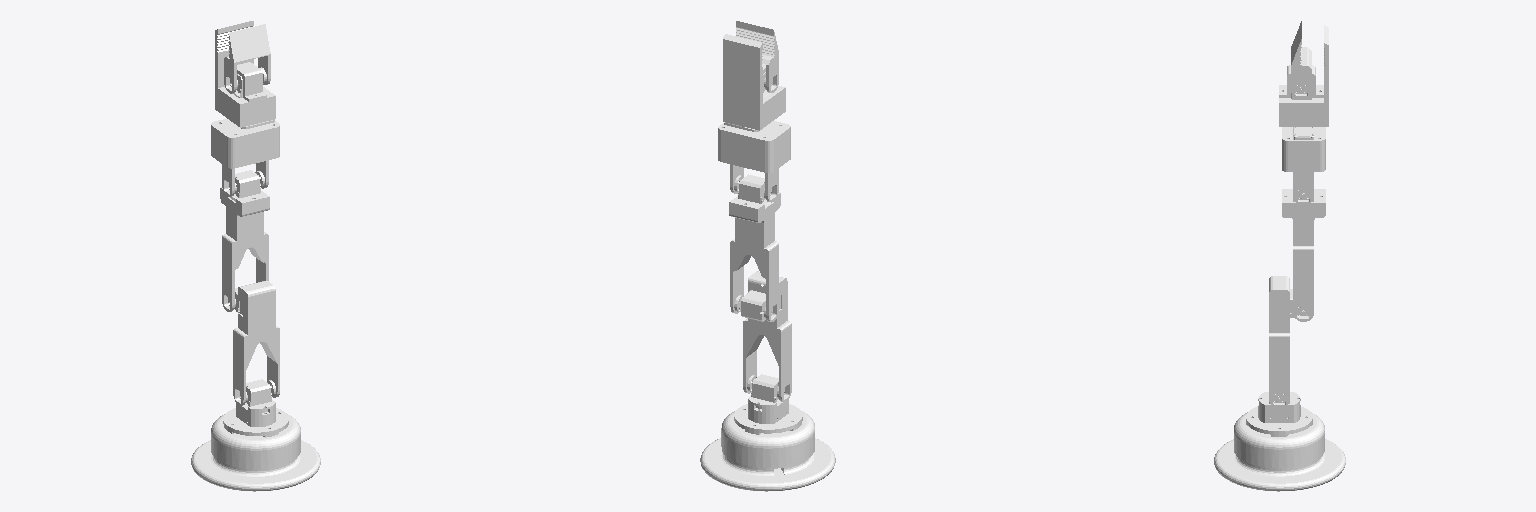
The robot description file, URDF, robot "vector_the_arm_description":
<?xml version="1.0" encoding="utf-8"?>
<!-- This URDF was automatically created by SolidWorks to URDF Exporter! Originally created by Stephen Brawner (brawner@gmail.com) 
     Commit Version: 1.6.0-1-g15f4949  Build Version: 1.6.7594.29634
     For more information, please see http://wiki.ros.org/sw_urdf_exporter -->
<robot
  name="vector_the_arm_description">
  <link
    name="base_link">
    <inertial>
      <origin
        xyz="0.0011876 -0.00024586 -0.0021651"
        rpy="0 0 0" />
      <mass
        value="0.47301" />
      <inertia
        ixx="0.00060142"
        ixy="-7.7811E-06"
        ixz="-4.6303E-06"
        iyy="0.00060151"
        iyz="4.6549E-06"
        izz="0.00099286" />
    </inertial>
    <visual>
      <origin
        xyz="0 0 0"
        rpy="0 0 0" />
      <geometry>
        <mesh
          filename="package://vector_the_arm_description/meshes/base_link.STL" />
      </geometry>
      <material
        name="">
        <color
          rgba="1 1 1 1" />
      </material>
    </visual>
    <collision>
      <origin
        xyz="0 0 0"
        rpy="0 0 0" />
      <geometry>
        <mesh
          filename="package://vector_the_arm_description/meshes/base_link.STL" />
      </geometry>
    </collision>
  </link>
  <link
    name="Link1">
    <inertial>
      <origin
        xyz="-0.00013887 -3.7112E-05 0.037653"
        rpy="0 0 0" />
      <mass
        value="0.16671" />
      <inertia
        ixx="0.00013651"
        ixy="8.7156E-12"
        ixz="6.9648E-08"
        iyy="0.00013384"
        iyz="3.302E-10"
        izz="0.00023132" />
    </inertial>
    <visual>
      <origin
        xyz="0 0 0"
        rpy="0 0 0" />
      <geometry>
        <mesh
          filename="package://vector_the_arm_description/meshes/Link1.STL" />
      </geometry>
      <material
        name="">
        <color
          rgba="1 1 1 1" />
      </material>
    </visual>
    <collision>
      <origin
        xyz="0 0 0"
        rpy="0 0 0" />
      <geometry>
        <mesh
          filename="package://vector_the_arm_description/meshes/Link1.STL" />
      </geometry>
    </collision>
  </link>
  <joint
    name="Joint1"
    type="revolute">
    <origin
      xyz="0 0 0"
      rpy="0 0 3.1416" />
    <parent
      link="base_link" />
    <child
      link="Link1" />
    <axis
      xyz="0 0 1" />
    <limit
      lower="-1.5708"
      upper="1.5708"
      effort="3.0"
      velocity="2.0" />
  </joint>
  <link
    name="Link2">
    <inertial>
      <origin
        xyz="-0.09422 0.003695 -0.022118"
        rpy="0 0 0" />
      <mass
        value="0.12354" />
      <inertia
        ixx="3.6579E-05"
        ixy="-1.8894E-06"
        ixz="3.2641E-07"
        iyy="0.00013792"
        iyz="-6.9245E-08"
        izz="0.00012281" />
    </inertial>
    <visual>
      <origin
        xyz="-0.1347 -0.0128 0"
        rpy="0 0 0" />
      <geometry>
        <mesh
          filename="package://vector_the_arm_description/meshes/Link2.STL" />
      </geometry>
      <material
        name="">
        <color
          rgba="1 1 1 1" />
      </material>
    </visual>
    <collision>
      <origin
        xyz="-0.1347 -0.0128 0"
        rpy="0 0 0" />
      <geometry>
        <mesh
          filename="package://vector_the_arm_description/meshes/Link2.STL" />
      </geometry>
    </collision>
  </link>
  <joint
    name="Joint2"
    type="revolute">
    <origin
      xyz="-0.023219 -0.000282 0.07716"
      rpy="3.1416 1.5708 0" />
    <parent
      link="Link1" />
    <child
      link="Link2" />
    <axis
      xyz="0 0 1" />
    <limit
      lower="-1.82"
      upper="1.82"
      effort="3.0"
      velocity="2.0" />
  </joint>
  <link
    name="Link3">
    <inertial>
      <origin
        xyz="-0.104627 -0.000063 -0.022151"
        rpy="0 0 0" />
      <mass
        value="0.14146" />
      <inertia
        ixx="4.2981E-05"
        ixy="2.0742E-08"
        ixz="3.9424E-07"
        iyy="0.00016334"
        iyz="6.9679E-10"
        izz="0.00015045" />
    </inertial>
    <visual>
      <origin
        xyz="-0.1347 -0.0128 0"
        rpy="0 0 0" />
      <geometry>
        <mesh
          filename="package://vector_the_arm_description/meshes/Link3.STL" />
      </geometry>
      <material
        name="">
        <color
          rgba="1 1 1 1" />
      </material>
    </visual>
    <collision>
      <origin
        xyz="-0.1347 -0.0128 0"
        rpy="0 0 0" />
      <geometry>
        <mesh
          filename="package://vector_the_arm_description/meshes/Link3.STL" />
      </geometry>
    </collision>
  </link>
  <joint
    name="Joint3"
    type="revolute">
    <origin
      xyz="-0.11579 0.029138 0.00049896"
      rpy="0 0 0" />
    <parent
      link="Link2" />
    <child
      link="Link3" />
    <axis
      xyz="0 0 1" />
    <limit
      lower="-1.60"
      upper="1.60"
      effort="3.0"
      velocity="2.0" />
  </joint>
  <link
    name="Link4">
    <inertial>
      <origin
        xyz="-0.057402 -0.000135 -0.022293"
        rpy="0 0 0" />
      <mass
        value="0.18212" />
      <inertia
        ixx="0.00011571"
        ixy="6.8725E-09"
        ixz="4.5323E-06"
        iyy="0.00011637"
        iyz="3.3483E-10"
        izz="8.0361E-05" />
    </inertial>
    <visual>
      <origin
        xyz="-0.1347 -0.0128 0"
        rpy="0 0 0" />
      <geometry>
        <mesh
          filename="package://vector_the_arm_description/meshes/Link4.STL" />
      </geometry>
      <material
        name="">
        <color
          rgba="1 1 1 1" />
      </material>
    </visual>
    <collision>
      <origin
        xyz="-0.1347 -0.0128 0"
        rpy="0 0 0" />
      <geometry>
        <mesh
          filename="package://vector_the_arm_description/meshes/Link4.STL" />
      </geometry>
    </collision>
  </link>
  <joint
    name="Joint4"
    type="revolute">
    <origin
      xyz="-0.15595 -0.000044 -0.043973"
      rpy="3.1416 0 0" />
    <parent
      link="Link3" />
    <child
      link="Link4" />
    <axis
      xyz="0 0 -1" />
    <limit
      lower="-1.55"
      upper="1.55"
      effort="3.0"
      velocity="2.0" />
  </joint>
  <link
    name="Link5">
    <inertial>
      <origin
        xyz="-0.0037812 -7.5442E-05 0.0098443"
        rpy="0 0 0" />
      <mass
        value="0.15471" />
      <inertia
        ixx="0.00011426"
        ixy="2.9963E-08"
        ixz="-2.8589E-05"
        iyy="0.0001344"
        iyz="1.6437E-08"
        izz="7.8003E-05" />
    </inertial>
    <visual>
      <origin
        xyz="0 0 0"
        rpy="0 0 0" />
      <geometry>
        <mesh
          filename="package://vector_the_arm_description/meshes/Link5.STL" />
      </geometry>
      <material
        name="">
        <color
          rgba="1 1 1 1" />
      </material>
    </visual>
    <collision>
      <origin
        xyz="0 0 0"
        rpy="0 0 0" />
      <geometry>
        <mesh
          filename="package://vector_the_arm_description/meshes/Link5.STL" />
      </geometry>
    </collision>
  </link>
  <joint
    name="Joint5"
    type="continuous">
    <origin
      xyz="-0.1347 -0.000286 -0.022559"
      rpy="1.5708 0 1.5708" />
    <parent
      link="Link4" />
    <child
      link="Link5" />
    <axis
      xyz="0 0 1" />
  </joint>
  <link
    name="gripper">
    <inertial>
      <origin
        xyz="-0.039632 -0.0052695 0.00073607"
        rpy="0 0 0" />
      <mass
        value="0.020259" />
      <inertia
        ixx="7.7248E-06"
        ixy="-5.4478E-07"
        ixz="-1.4244E-08"
        iyy="1.3735E-05"
        iyz="-3.6395E-09"
        izz="7.4629E-06" />
    </inertial>
    <visual>
      <origin
        xyz="0.008531 0.002823 0"
        rpy="0 0 0" />
      <geometry>
        <mesh
          filename="package://vector_the_arm_description/meshes/gripper.STL" />
      </geometry>
      <material
        name="">
        <color
          rgba="1 1 1 1" />
      </material>
    </visual>
    <collision>
      <origin
        xyz="0.008531 0.002823 0"
        rpy="0 0 0" />
      <geometry>
        <mesh
          filename="package://vector_the_arm_description/meshes/gripper.STL" />
      </geometry>
    </collision>
  </link>
  <joint
    name="gripper_joint"
    type="revolute">
    <origin
      xyz="0.002823 0 -0.008531"
      rpy="1.5708 -1.5708 0" />
    <parent
      link="Link5" />
    <child
      link="gripper" />
    <axis
      xyz="0 0 1" />
    <!-- jaw: 0 = CAD pose (enc 1745, mid); +1.658 = fully open; -0.468 = fully closed -->
    <limit
      lower="-0.468"
      upper="1.658"
      effort="1.0"
      velocity="1.0" />
  </joint>
</robot>

--- Facts derived from the render (not from the file) ---
Views: 3 orthographic renders of the robot side by side, from view 1: azimuth 30°, elevation 25°; view 2: azimuth 150°, elevation 25°; view 3: azimuth 270°, elevation 25°.
Robot: vector_the_arm_description — 7 links, 6 joints (5 revolute, 1 continuous); root link base_link; default pose: every joint at zero.
Visible links, largest first — view 1: Link1, Link3, Link2, Link4, Link5, base_link, gripper; view 2: Link1, Link3, Link5, Link2, Link4, base_link, gripper; view 3: Link1, base_link, Link3, Link2, Link4, Link5, gripper.
Boxes of the visible links, x1=… form: Link1: x1=211, y1=379, x2=300, y2=468; Link3: x1=220, y1=170, x2=269, y2=311; Link2: x1=233, y1=280, x2=279, y2=405; Link4: x1=211, y1=119, x2=279, y2=196; Link5: x1=215, y1=21, x2=275, y2=127; base_link: x1=191, y1=440, x2=320, y2=491; gripper: x1=224, y1=24, x2=270, y2=93; Link1: x1=721, y1=374, x2=814, y2=467; Link3: x1=729, y1=174, x2=780, y2=321; Link5: x1=723, y1=34, x2=785, y2=130; Link2: x1=741, y1=271, x2=791, y2=401; Link4: x1=718, y1=121, x2=790, y2=202; base_link: x1=700, y1=438, x2=835, y2=491; gripper: x1=736, y1=21, x2=778, y2=92; Link1: x1=1234, y1=392, x2=1324, y2=467; base_link: x1=1214, y1=439, x2=1345, y2=491; Link3: x1=1282, y1=189, x2=1325, y2=321; Link2: x1=1269, y1=276, x2=1308, y2=408; Link4: x1=1282, y1=127, x2=1325, y2=204; Link5: x1=1279, y1=25, x2=1328, y2=126; gripper: x1=1291, y1=21, x2=1311, y2=99.
Size in the robot's own frame: 0.1599 by 0.1599 by 0.582 metres.
7 mesh visuals loaded from 7 distinct referenced files (7 binary STL).
